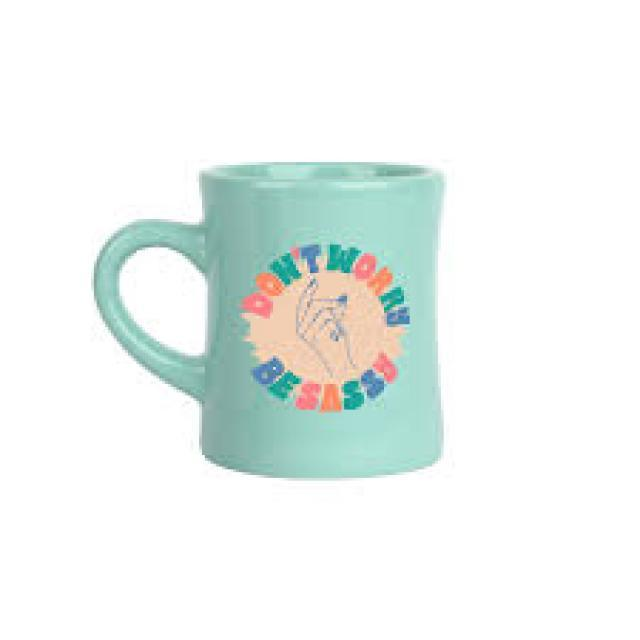taza: (92, 159, 447, 481)
